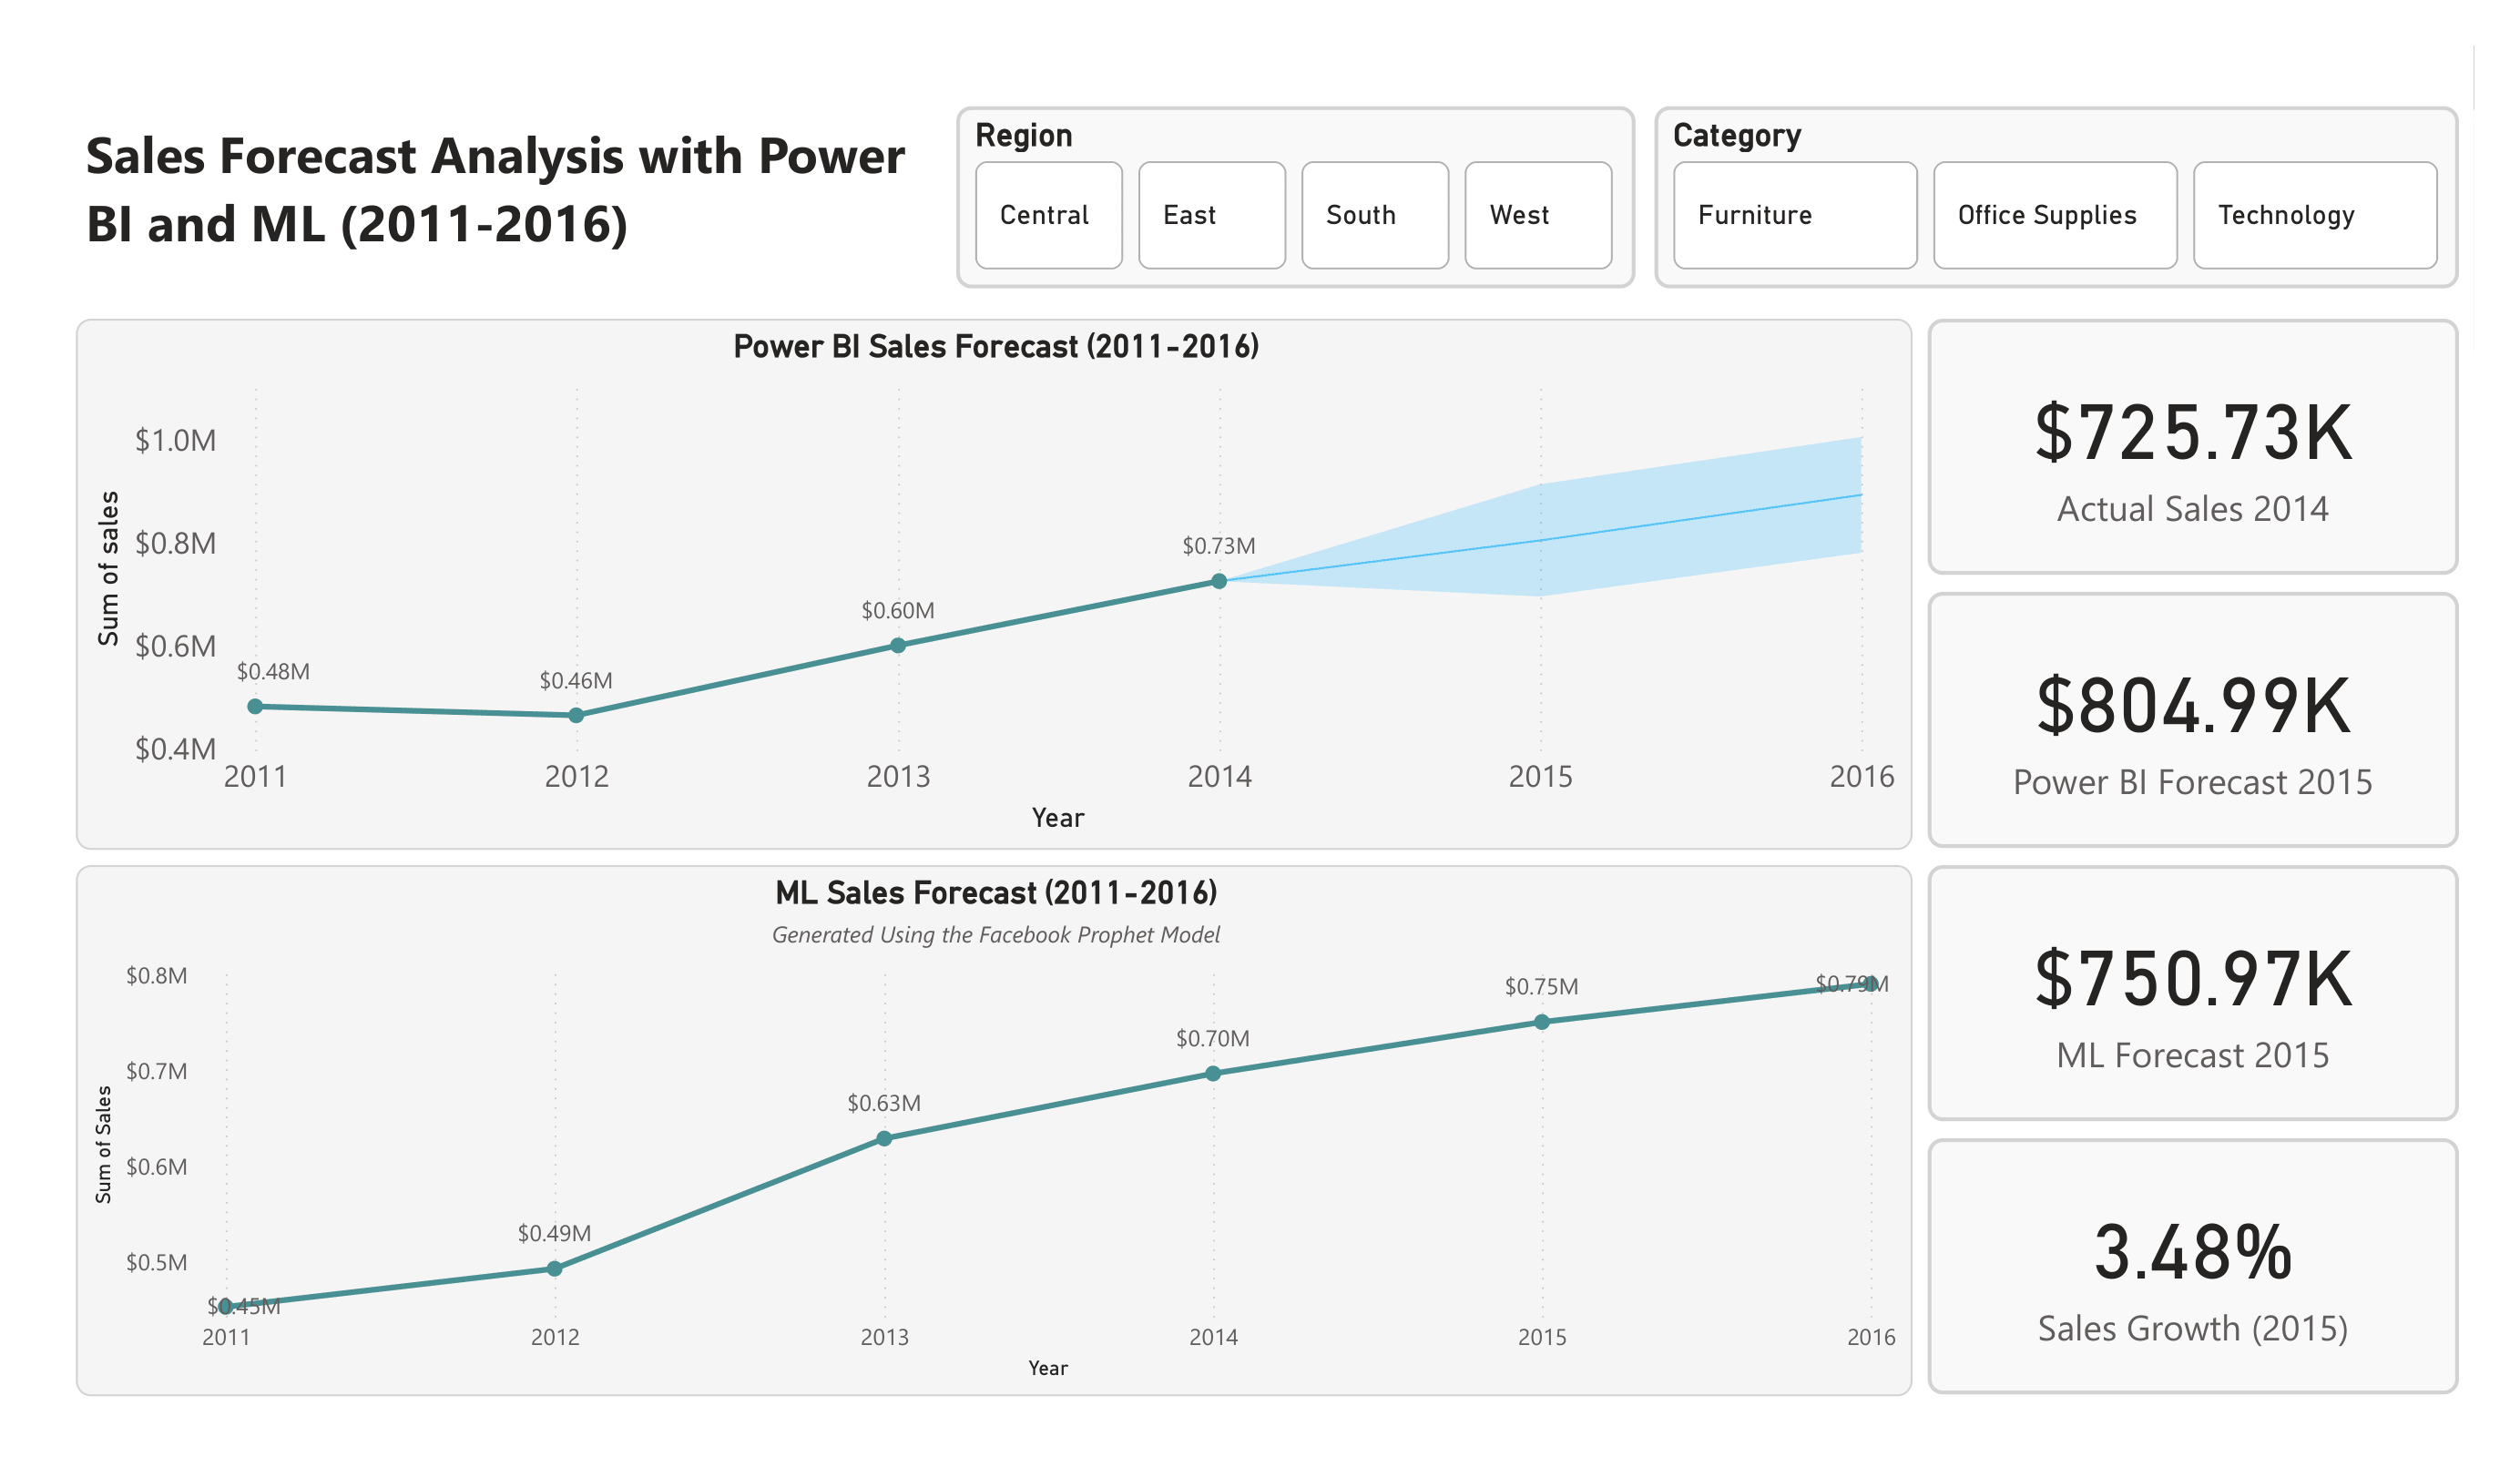

Layout of this report page (visuals, bound fields, positions):
{"tool":"powerbi","page":{"name":"Page 4","canvas":[1280,720],"ordinal":3},"visuals":[{"type":"lineChart","title":"Power BI Sales Forecast (2011-2016)","fields":{"Y":["Sum(superstore_db orders.sales)"],"Category":["superstore_db orders.order_date.Variation.Date Hierarchy.Year","superstore_db orders.order_date.Variation.Date Hierarchy.Quarter","superstore_db orders.order_date.Variation.Date Hierarchy.Month","superstore_db orders.order_date.Variation.Date Hierarchy.Day"]},"box":[16,144,968,280],"z":0},{"type":"lineChart","title":"ML Sales Forecast (2011-2016) ","fields":{"Y":["Sum(ml_forecast. Sales )"],"Category":["ml_forecast.Date"]},"box":[16,432,968,280],"z":1000},{"type":"textbox","box":[16,16,448,112],"z":2000},{"type":"card","fields":{"Values":["superstore_db orders.Actual Sales 2014"]},"box":[992,144,280,135],"z":3000},{"type":"card","fields":{"Values":["ml_forecast.ML Forecast 2015"]},"box":[992,432,280,135],"z":4000},{"type":"card","fields":{"Values":["ml_forecast.Sales Growth %"]},"box":[992,576,280,135],"z":5000},{"type":"card","fields":{"Values":["superstore_db orders.Power BI Forecast 2015"]},"box":[992,288,280,135],"z":6000},{"type":"advancedSlicerVisual","title":"Region","fields":{"Values":["superstore_db orders.region"]},"box":[480,32,358,96],"z":7000},{"type":"advancedSlicerVisual","title":"Category","fields":{"Values":["superstore_db orders.category"]},"box":[848,32,424,96],"z":8000}]}

Visuals, with their boxes in screenshot pixels (x1, y1, x2, y2):
"Power BI Sales Forecast (2011-2016)" lineChart: [left=76, top=319, right=1913, bottom=850]
"ML Sales Forecast (2011-2016) " lineChart: [left=76, top=865, right=1913, bottom=1396]
textbox: [left=76, top=76, right=926, bottom=289]
card - superstore_db orders.Actual Sales 2014: [left=1928, top=319, right=2459, bottom=575]
card - ml_forecast.ML Forecast 2015: [left=1928, top=865, right=2459, bottom=1121]
card - ml_forecast.Sales Growth %: [left=1928, top=1138, right=2459, bottom=1394]
card - superstore_db orders.Power BI Forecast 2015: [left=1928, top=592, right=2459, bottom=848]
"Region" advancedSlicerVisual: [left=956, top=107, right=1636, bottom=289]
"Category" advancedSlicerVisual: [left=1655, top=107, right=2459, bottom=289]
